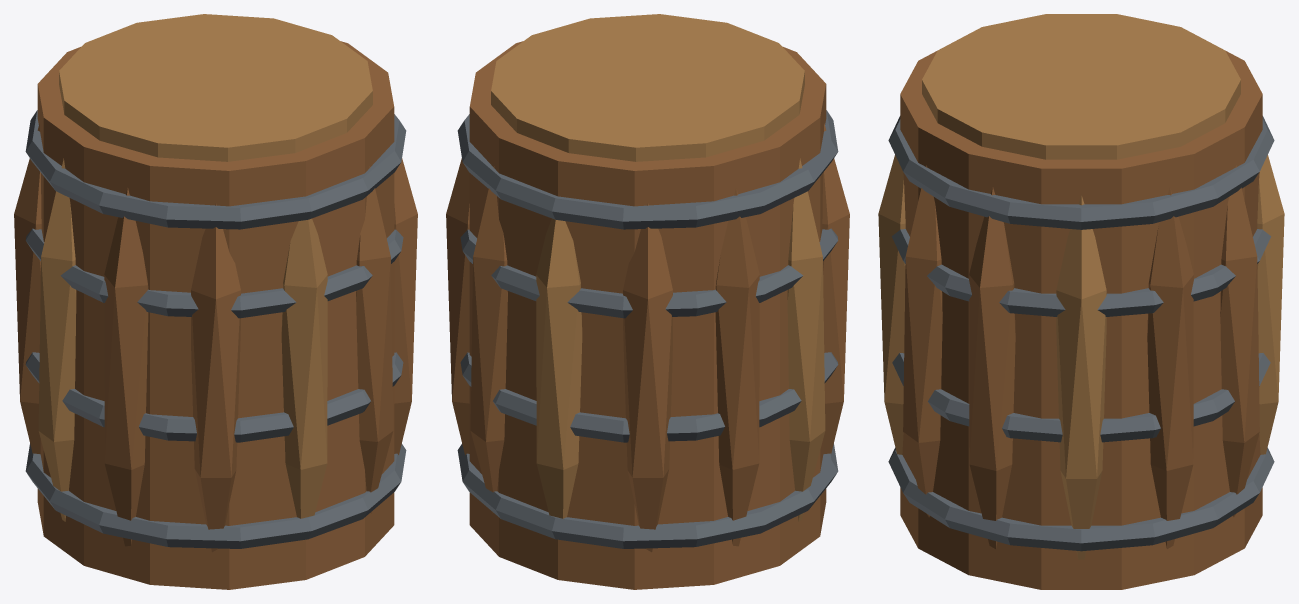
The model's file is wooden-barrel.glb.
3 renders of one model, left to right at view 1: azimuth 30°, elevation 25°; view 2: azimuth 150°, elevation 25°; view 3: azimuth 270°, elevation 25°, orthographic.
Visible parts, largest first — view 1: Barrel core, Barrel lid, Wood stave 08, Wood stave 09, Wood stave 07, Iron barrel hoop, Iron barrel hoop.001, Wood stave 06, Wood stave 10, Wood stave 05, Iron barrel hoop.003, Iron barrel hoop.002 (+1 smaller); view 2: Barrel core, Barrel lid, Wood stave 04, Wood stave 03, Wood stave 05, Iron barrel hoop, Iron barrel hoop.001, Wood stave 06, Wood stave 02, Wood stave 07, Iron barrel hoop.003, Iron barrel hoop.002 (+1 smaller); view 3: Barrel core, Barrel lid, Wood stave 00, Wood stave 01, Wood stave 11, Iron barrel hoop, Iron barrel hoop.001, Wood stave 02, Wood stave 10, Wood stave 03, Wood stave 09, Iron barrel hoop.003 (+1 smaller).
Part boxes in pixels (x1,y1,x2,y2): Barrel core: [37, 41, 394, 589]; Barrel lid: [59, 14, 372, 161]; Wood stave 08: [191, 203, 240, 552]; Wood stave 09: [281, 218, 327, 518]; Wood stave 07: [104, 187, 148, 546]; Iron barrel hoop: [25, 110, 406, 229]; Iron barrel hoop.001: [25, 443, 406, 548]; Wood stave 06: [38, 158, 76, 521]; Wood stave 10: [356, 166, 393, 513]; Wood stave 05: [14, 123, 41, 454]; Iron barrel hoop.003: [25, 228, 403, 318]; Iron barrel hoop.002: [25, 352, 403, 442]; Barrel core: [469, 41, 826, 589]; Barrel lid: [491, 14, 804, 161]; Wood stave 04: [623, 203, 672, 552]; Wood stave 03: [536, 218, 582, 518]; Wood stave 05: [715, 187, 759, 546]; Iron barrel hoop: [457, 110, 838, 229]; Iron barrel hoop.001: [457, 443, 838, 548]; Wood stave 06: [787, 158, 825, 521]; Wood stave 02: [470, 166, 507, 513]; Wood stave 07: [822, 123, 849, 454]; Iron barrel hoop.003: [460, 228, 838, 318]; Iron barrel hoop.002: [460, 352, 838, 442]; Barrel core: [900, 50, 1262, 589]; Barrel lid: [922, 14, 1240, 159]; Wood stave 00: [1056, 195, 1106, 559]; Wood stave 01: [1147, 187, 1193, 548]; Wood stave 11: [969, 187, 1015, 548]; Iron barrel hoop: [888, 116, 1274, 229]; Iron barrel hoop.001: [888, 447, 1274, 551]; Wood stave 02: [1220, 165, 1259, 517]; Wood stave 10: [903, 165, 942, 517]; Wood stave 03: [1257, 155, 1284, 454]; Wood stave 09: [878, 155, 905, 454]; Iron barrel hoop.003: [891, 229, 1271, 316].
Bounding box in the file's own units: 1.03 × 1.22 × 1.03.
